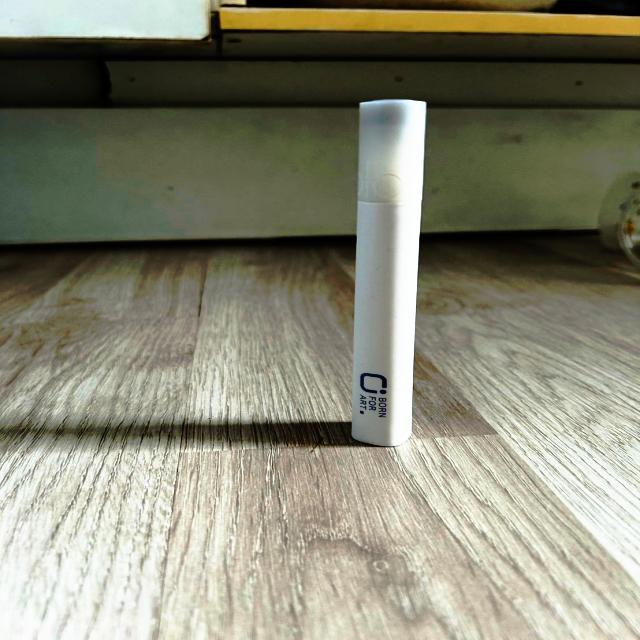HighLight Pen: (352, 100, 426, 446)
